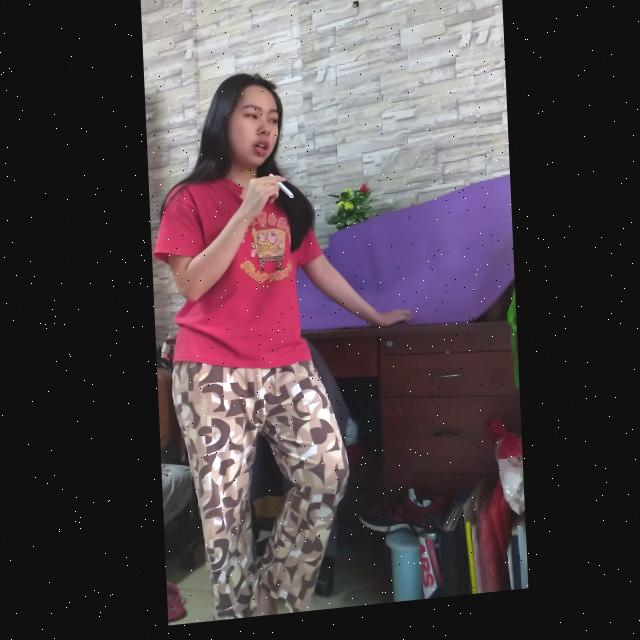cigarette: (267, 177, 292, 206)
